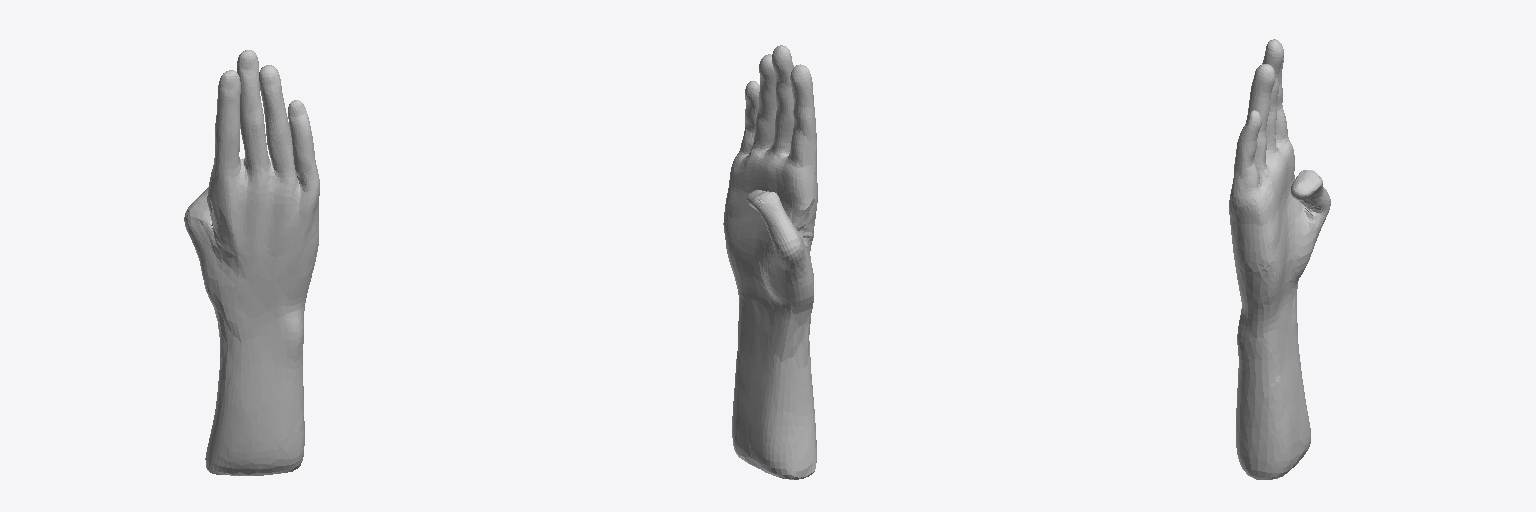
The model's file is mainb.obj.
The picture shows the model from 3 angles: view 1: azimuth 30°, elevation 25°; view 2: azimuth 150°, elevation 25°; view 3: azimuth 270°, elevation 25°; orthographic projection.
Parts seen in each view (by area): view 1: ZBrush_defualt_group; view 2: ZBrush_defualt_group; view 3: ZBrush_defualt_group.
Boxes of the visible parts, x1,y1,x2,y2 form: ZBrush_defualt_group: [184, 50, 319, 475]; ZBrush_defualt_group: [723, 45, 817, 479]; ZBrush_defualt_group: [1229, 39, 1330, 479].
Bounding box in the file's own units: 2.54 × 9.97 × 2.19.